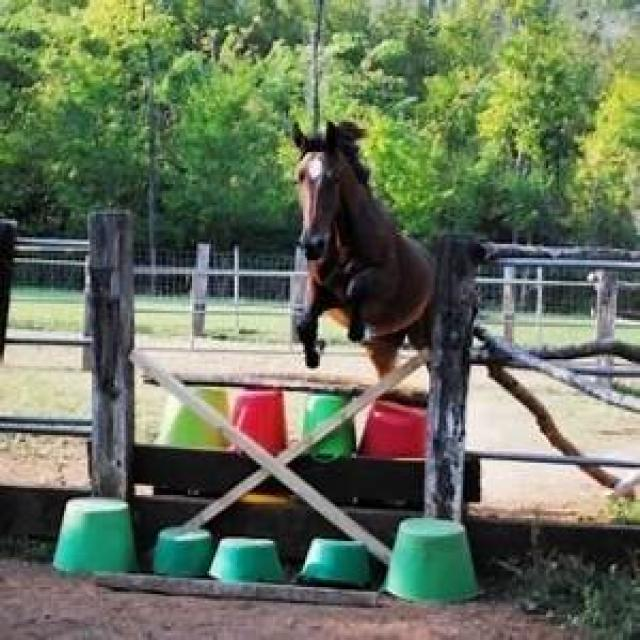horse: (292, 122, 435, 389)
